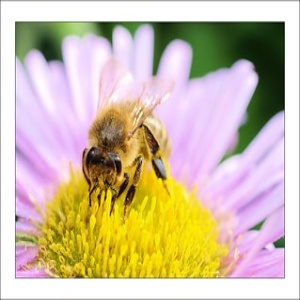bee: (79, 56, 177, 222)
